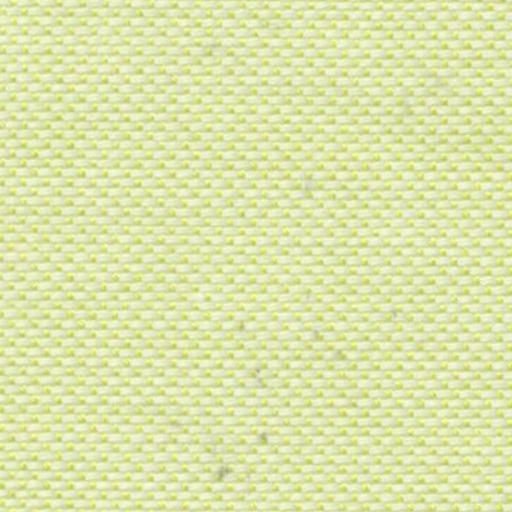WuZi: (304, 311, 356, 367), (284, 160, 320, 210), (196, 448, 236, 486), (244, 352, 277, 388), (250, 415, 276, 451), (381, 290, 412, 319), (224, 310, 253, 338)
